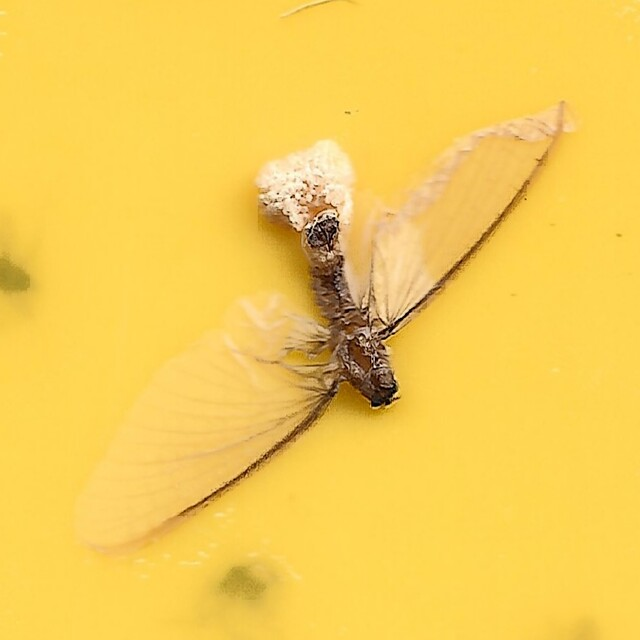Ephemeroptera: (71, 84, 569, 556)
